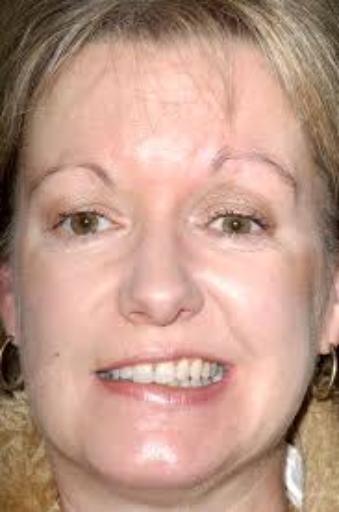left_eye: (198, 215, 271, 247)
left_lip_corner: (216, 353, 243, 381)
right_eye: (47, 208, 127, 242)
right_lip_corner: (84, 359, 112, 388)
